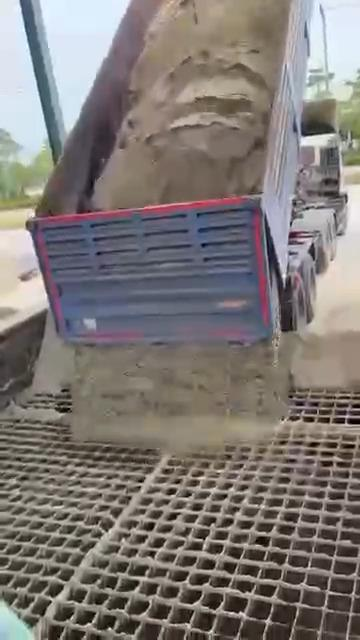sand: (4, 330, 305, 639), (95, 0, 290, 209), (292, 324, 359, 390), (30, 312, 72, 392)
